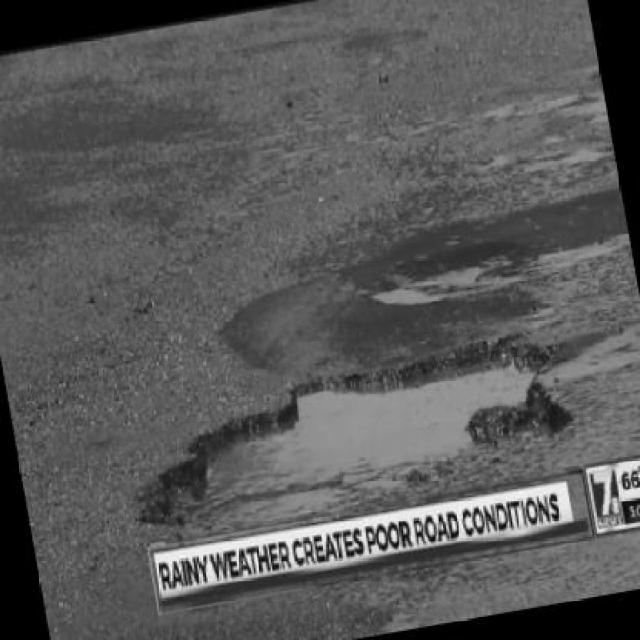pothole: (122, 325, 584, 550)
